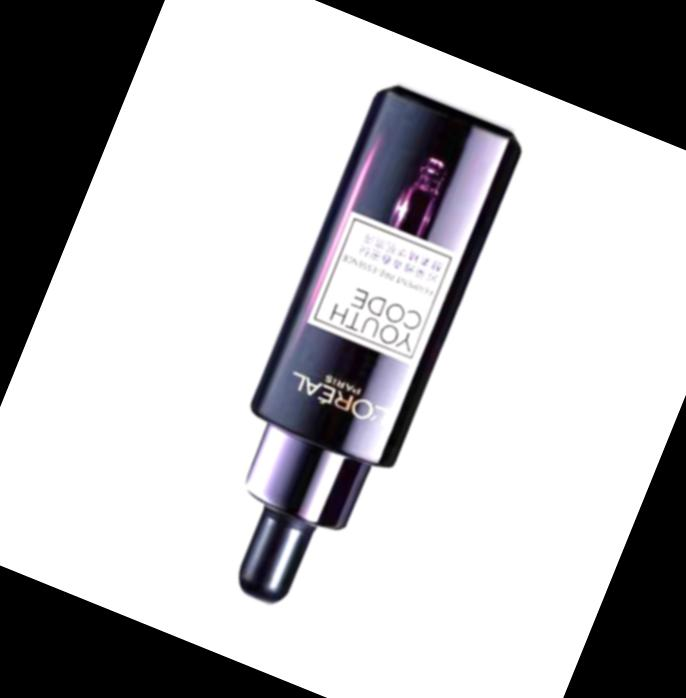cosmetic: (185, 80, 524, 628)
